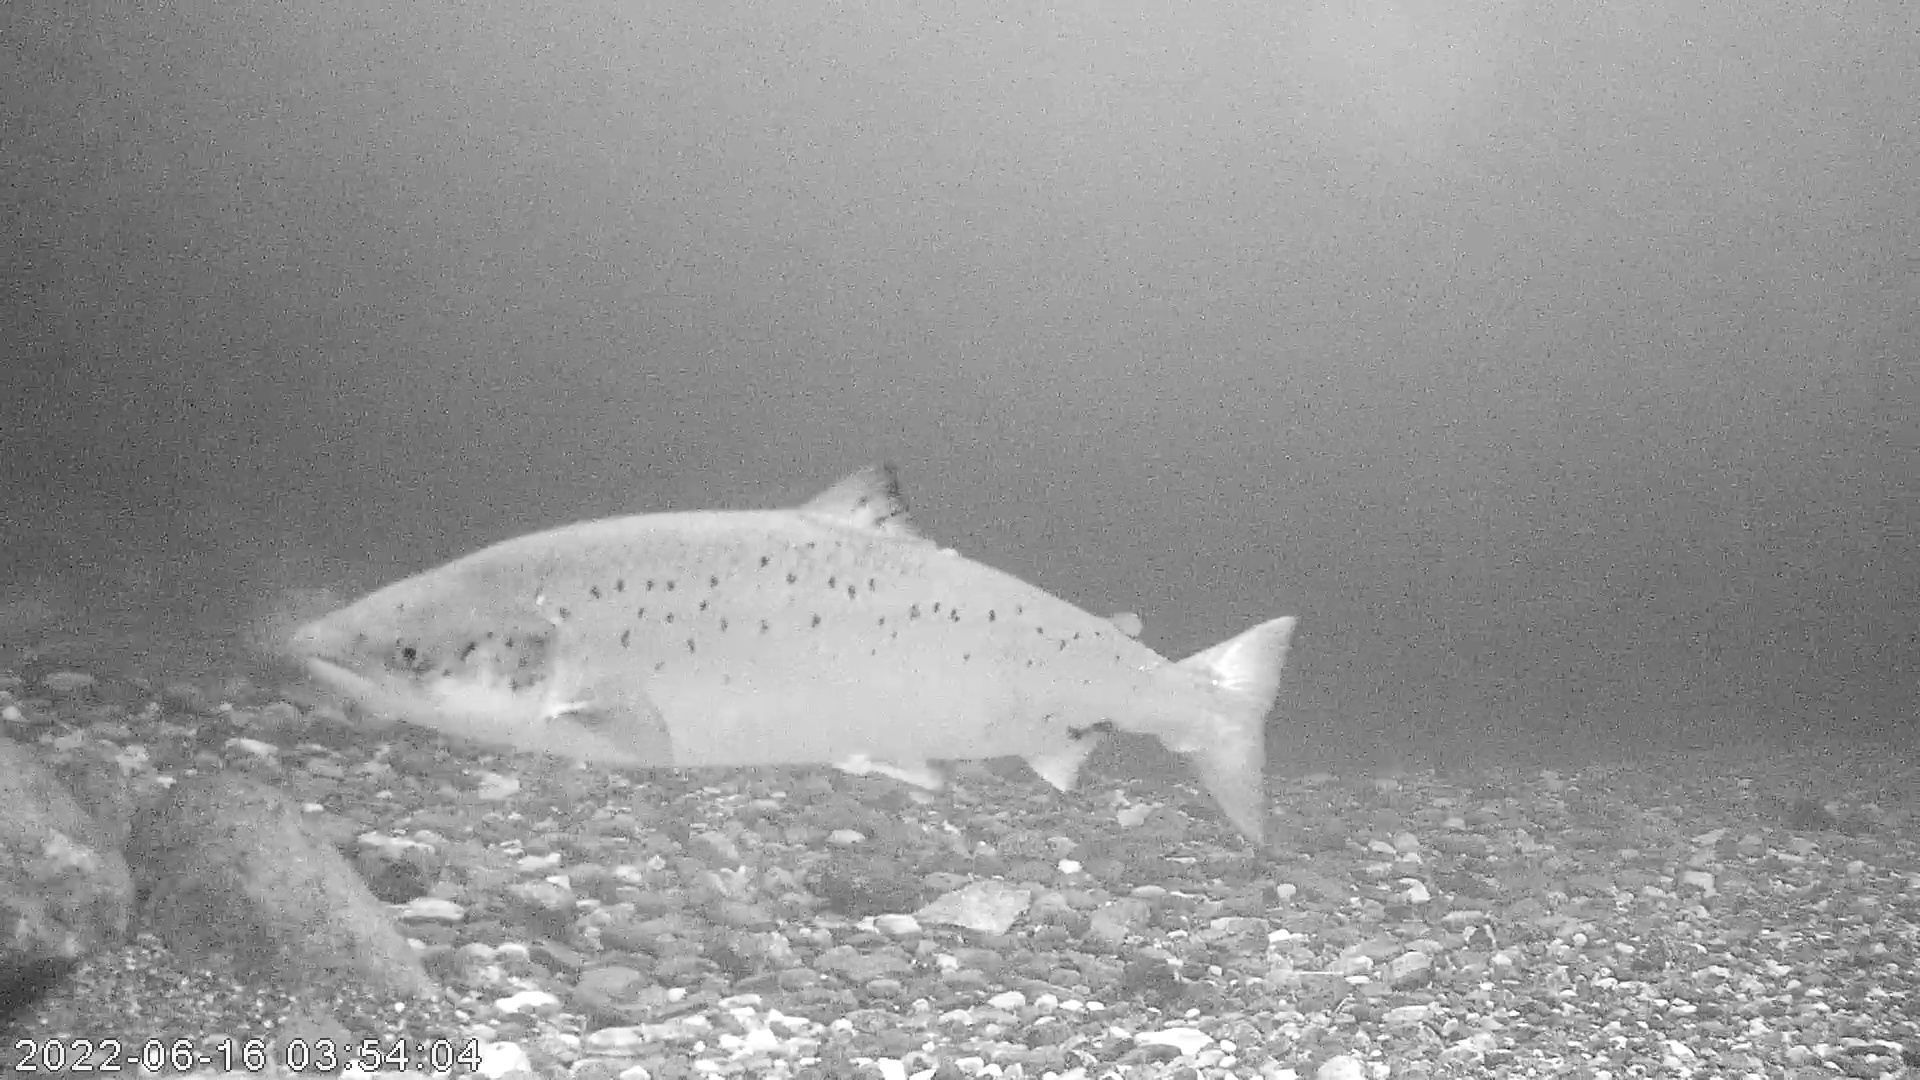salmon: (284, 455, 1303, 851)
